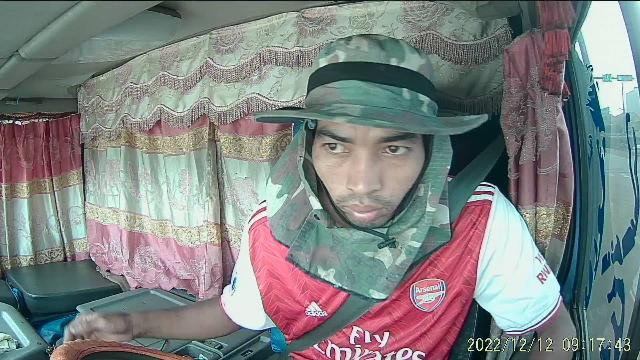SafeDriving: (317, 133, 357, 159), (373, 136, 416, 160)
Seatbelt: (296, 158, 500, 360)
